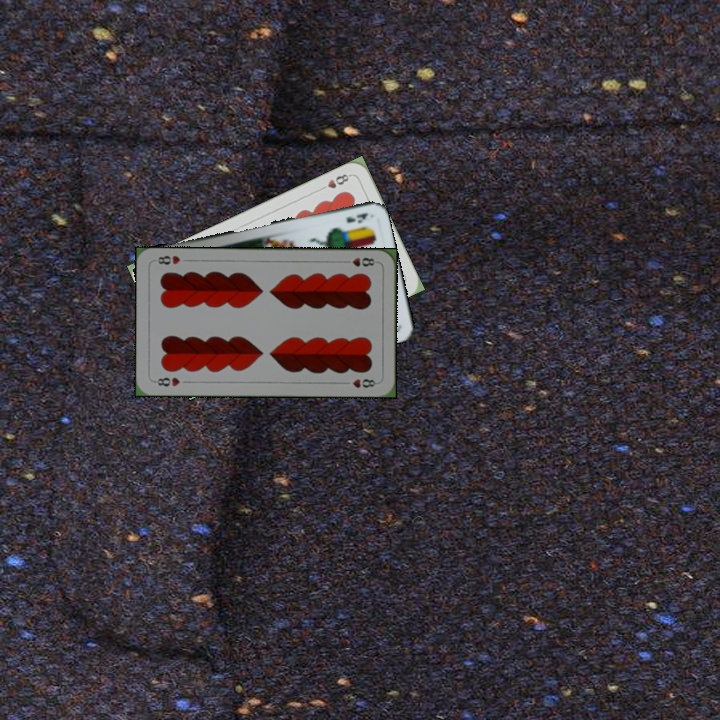EK: (342, 209, 371, 225)
H8: (315, 170, 354, 193), (339, 254, 380, 269), (150, 374, 182, 389)
